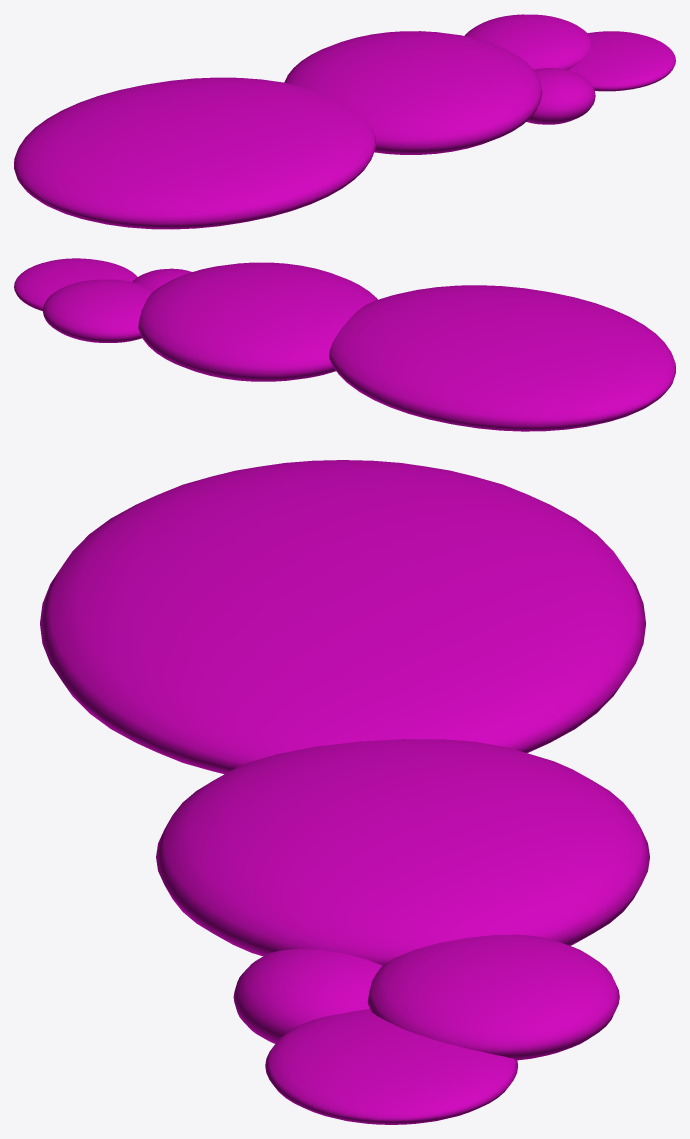
The model's file is GoopDrops.fbx.
3 views of the same model, one above another, from view 1: azimuth 30°, elevation 25°; view 2: azimuth 150°, elevation 25°; view 3: azimuth 270°, elevation 25° (orthographic). The views are drawn at different scales.
Parts seen in each view (by area): view 1: pSphere7; view 2: pSphere7; view 3: pSphere7.
Boxes of the visible parts, box(x1,y1,x2,y2) form: pSphere7: box(14, 14, 675, 229); pSphere7: box(14, 258, 675, 431); pSphere7: box(40, 460, 649, 1124).
Size of the model in its own units: 133 by 14.54 by 56.18.
